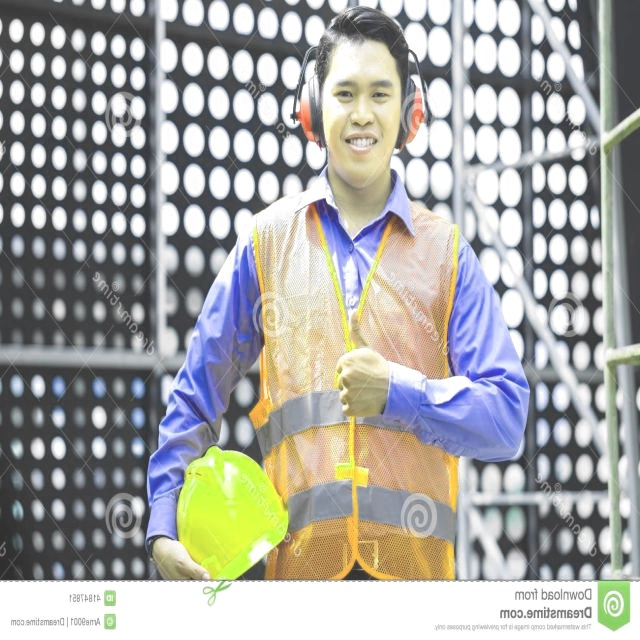Con_Chaleco: (264, 182, 461, 579)
Sin_Casco_Mascarrilla: (317, 4, 410, 184)
